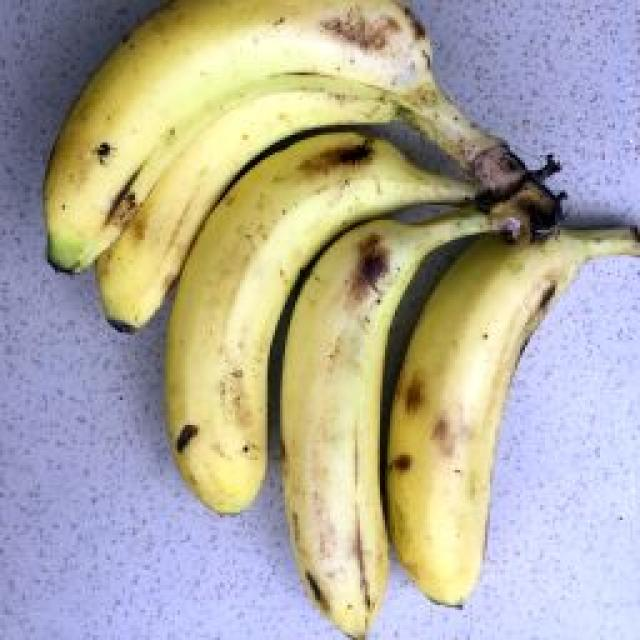banana: (36, 7, 506, 508)
